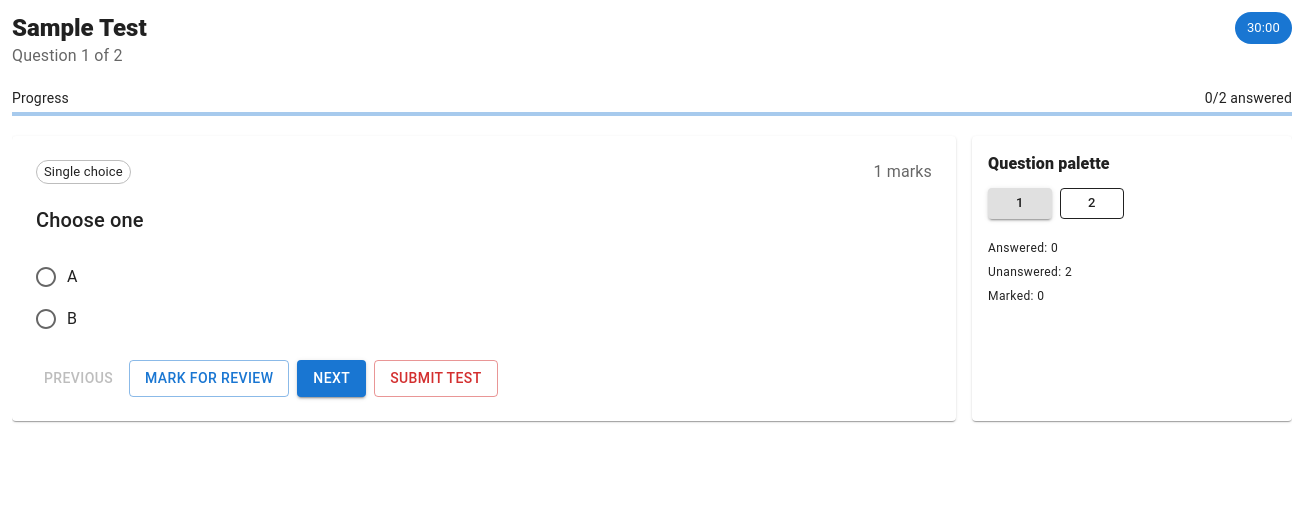
Test: AttemptPage test-taking experience › shows save errors without discarding the selection
Click the radio button labelled "B" at (56, 319), box [34, 307, 77, 331]
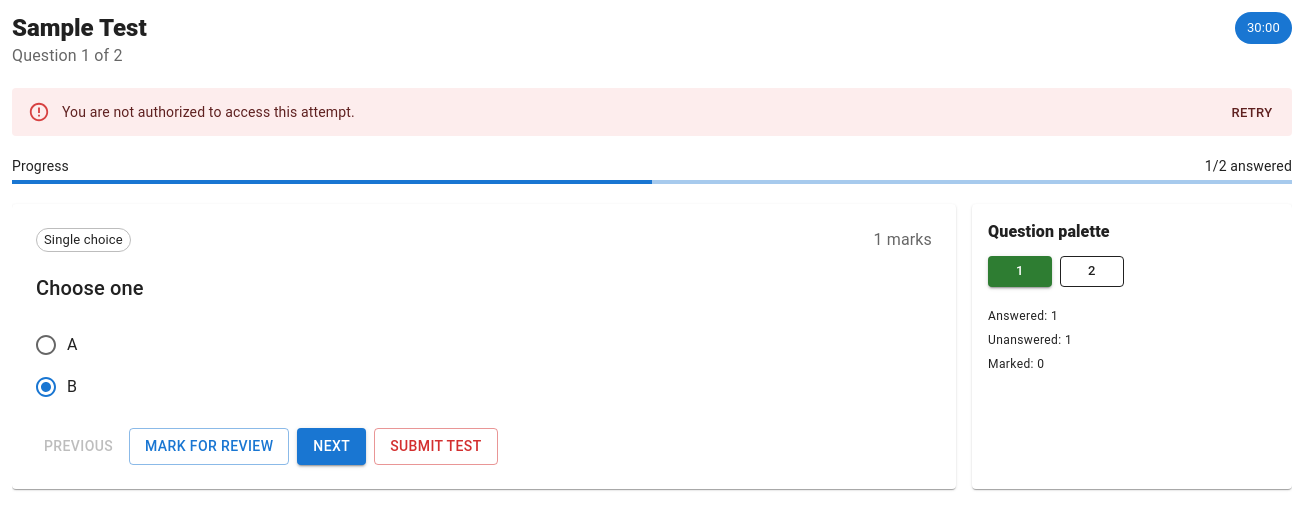
Expected: the radio button labelled "B" is checked, [34, 375, 77, 399]
Expected: the text "not authorized" is shown, [62, 104, 355, 120]
